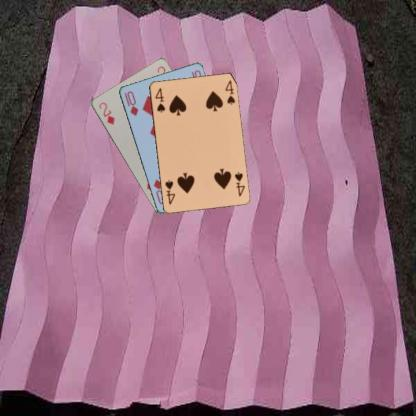10d: (122, 88, 140, 117)
2d: (96, 99, 115, 126)
4s: (152, 85, 166, 114), (232, 169, 246, 198)
